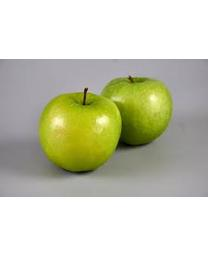apple: (38, 87, 121, 172), (100, 75, 173, 145)
